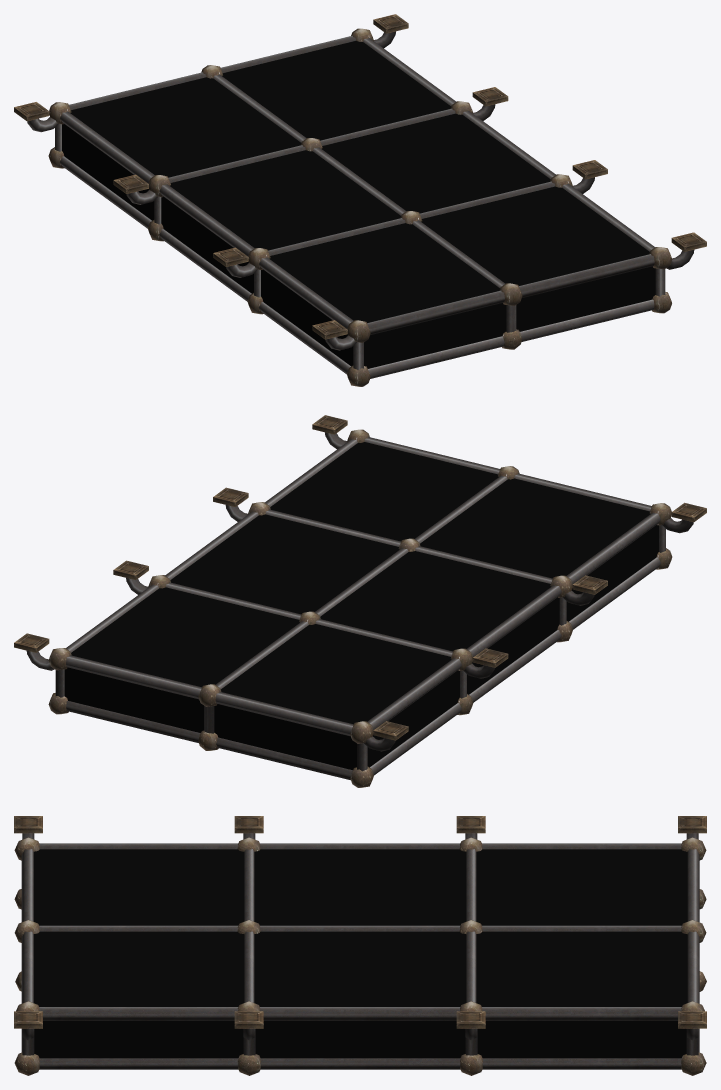
Rendered from catwalk_factory_3m.DAE.
3 views of the same model, one above another, from view 1: azimuth 30°, elevation 25°; view 2: azimuth 150°, elevation 25°; view 3: azimuth 270°, elevation 25° (orthographic). The views are drawn at different scales.
Visible parts, largest first — view 1: Plane005, Object128; view 2: Plane005, Object128; view 3: Plane005, Object128.
Part boxes in pixels (bbox=[...]): Plane005: bbox=[62, 41, 655, 368]; Object128: bbox=[14, 14, 706, 386]; Plane005: bbox=[64, 442, 658, 770]; Object128: bbox=[14, 415, 706, 787]; Plane005: bbox=[33, 849, 687, 1058]; Object128: bbox=[14, 816, 706, 1075].
Size of the model in its own units: 2.13 by 0.3534 by 3.
